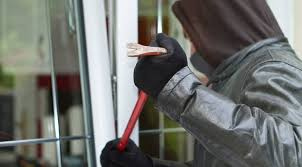crowbar: (100, 40, 169, 167)
